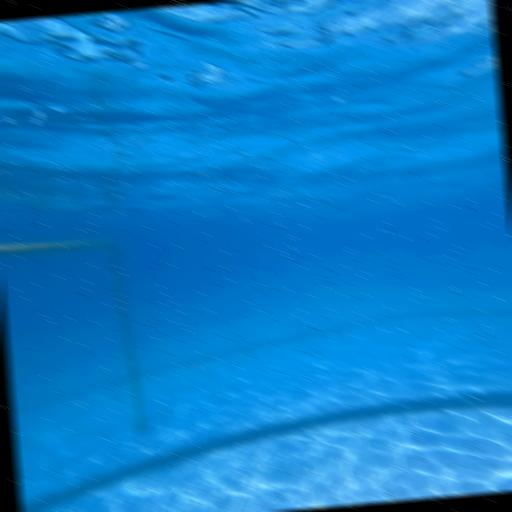gate: (0, 231, 165, 487)
